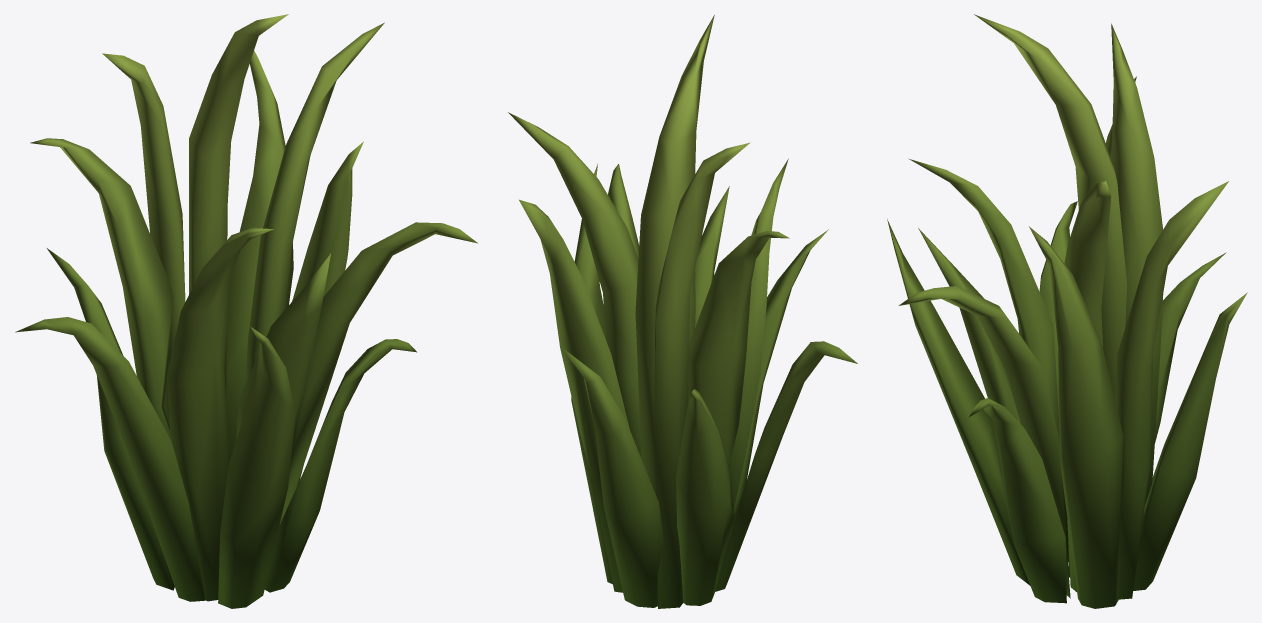
The model's file is grass_c.glb.
3 views of the same model, side by side, from view 1: azimuth 30°, elevation 25°; view 2: azimuth 150°, elevation 25°; view 3: azimuth 270°, elevation 25° (orthographic). The views are drawn at different scales.
Parts seen in each view (by area): view 1: grass; view 2: grass; view 3: grass.
Boxes of the visible parts, <box> form: grass: <box>15,14,477,608</box>; grass: <box>508,15,857,608</box>; grass: <box>887,14,1247,608</box>.
Bounding box in the file's own units: 0.666 × 0.998 × 0.5723.
